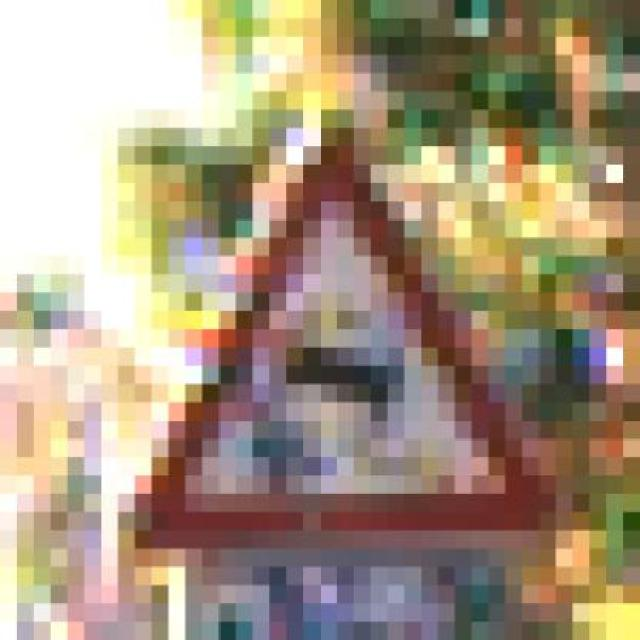Slippery Road Ahead: (118, 110, 556, 567)
